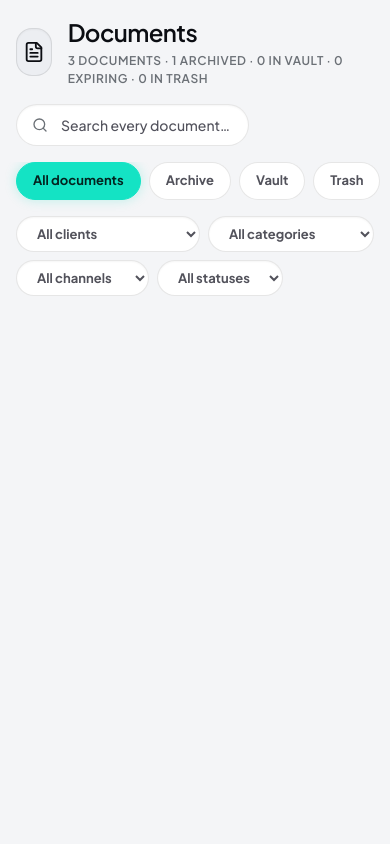
Test case: the Archive scope still lists only published documents
Click the button "Archive" at (190, 181), box [149, 162, 231, 200]
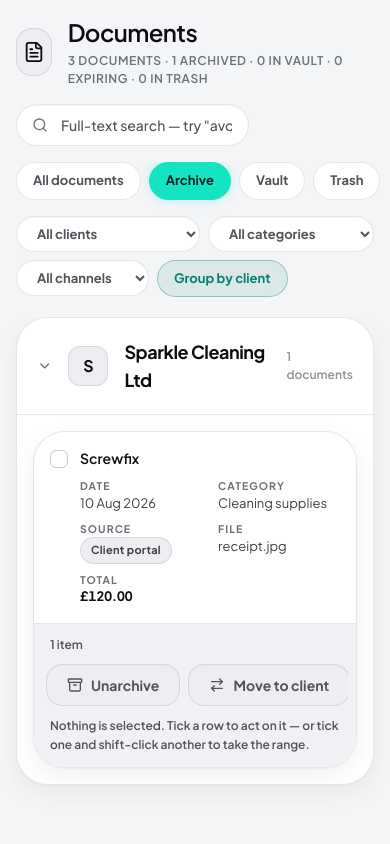
Expected: the text "Screwfix" is shown, [80, 449, 139, 467]
